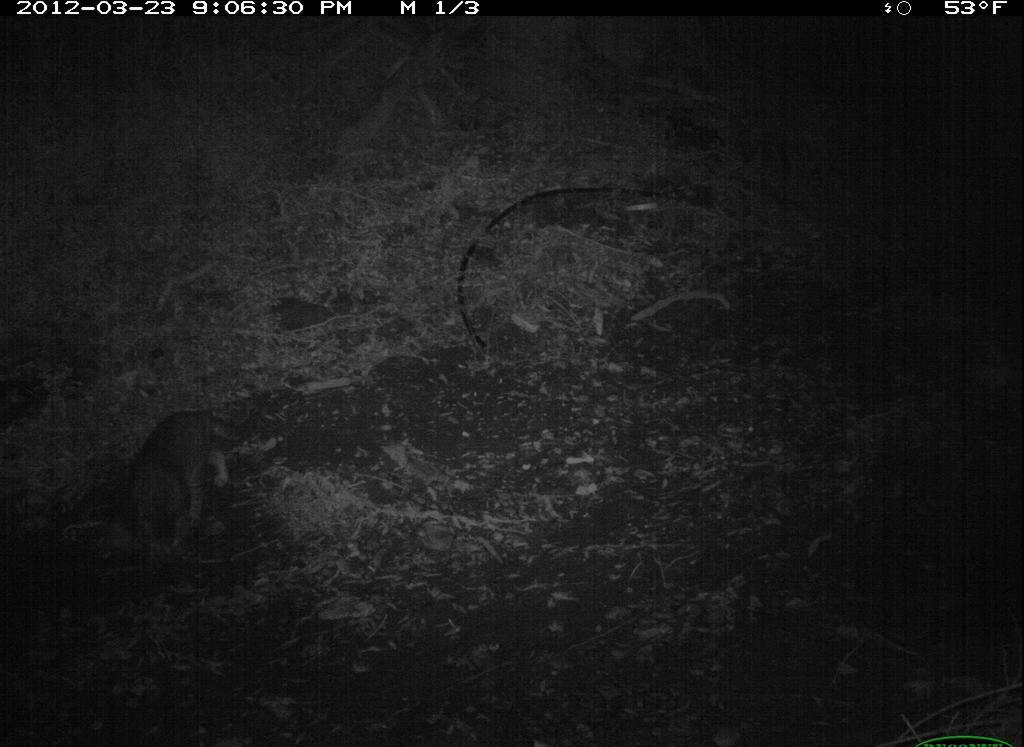cat: (91, 392, 269, 568)
